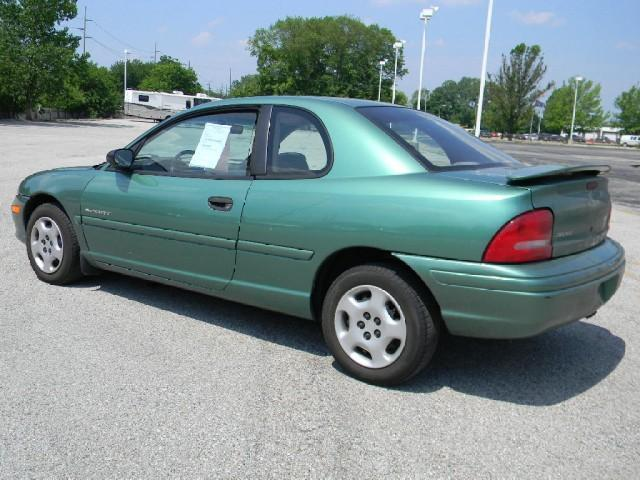car: (3, 81, 640, 393)
